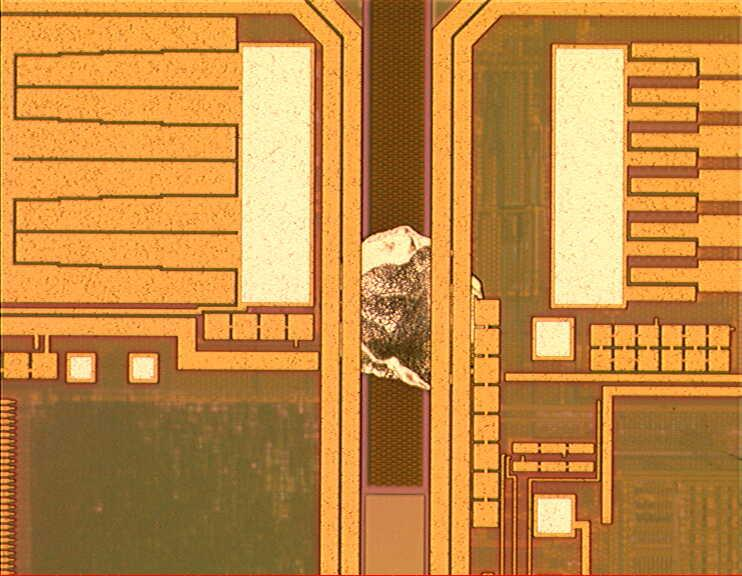BLOCK ETCH: (330, 224, 490, 393)
